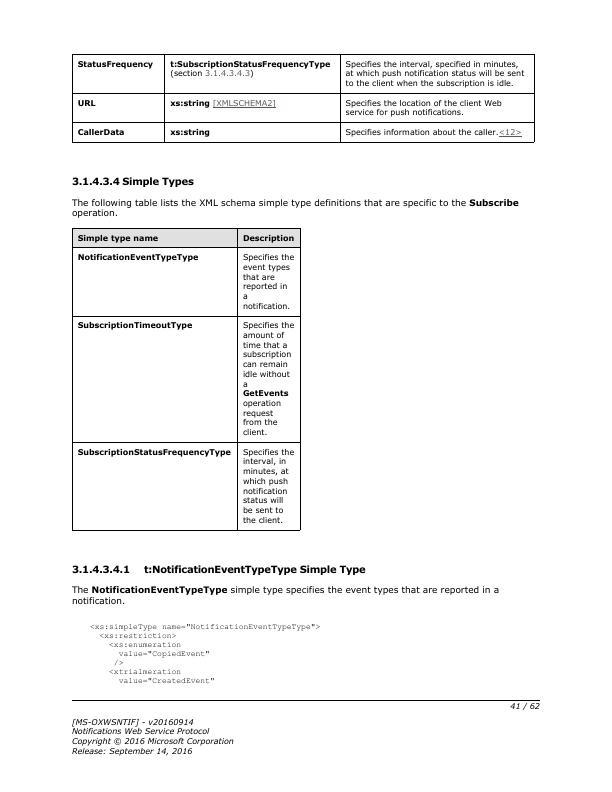table: (70, 226, 304, 533), (70, 52, 537, 147)
text: (88, 621, 322, 686), (68, 195, 520, 220), (68, 584, 502, 606), (68, 715, 238, 758), (70, 563, 369, 577), (68, 173, 197, 189)
